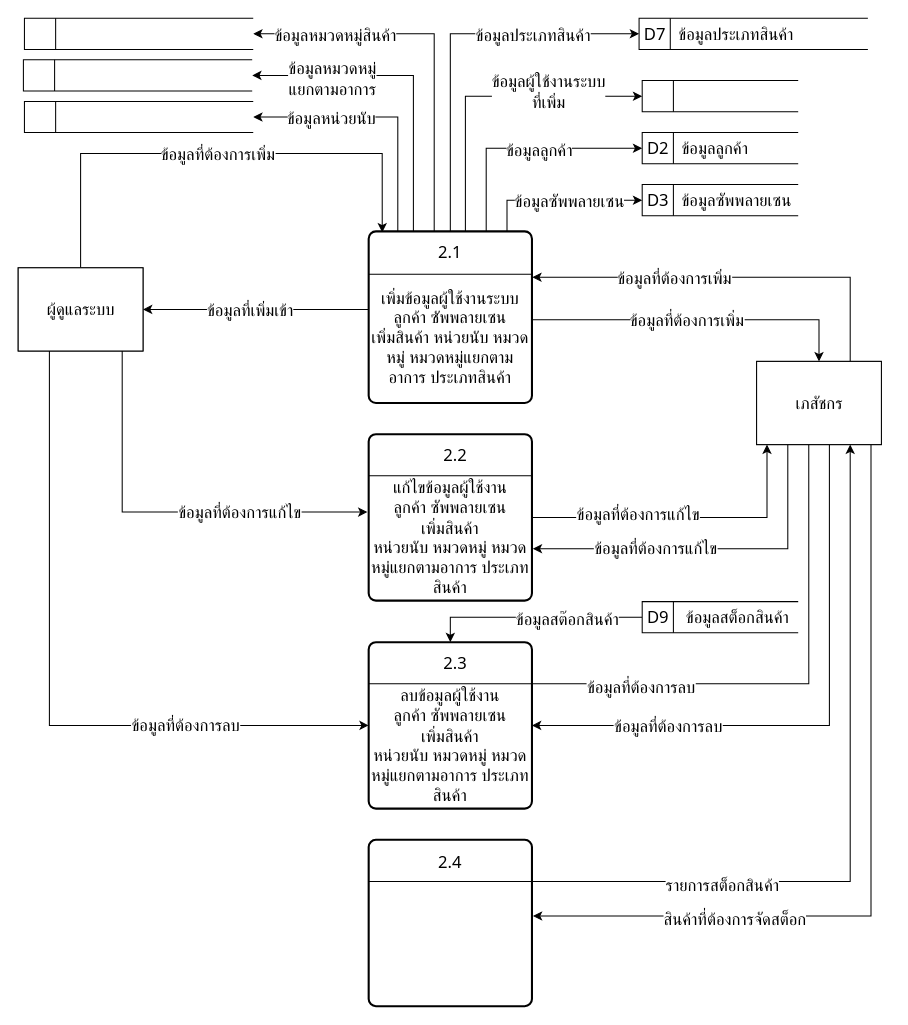
Image size: 908x1025. Some labels were removed from this diagram. The box of each missing label's shape, as (x1, y1, x2, y2) in pixels:
D1 ข้อมูลผู้ใช้งานระบบ: (641, 80, 798, 112)
D4 ข้อมูลหมวดหมู่สินค้า: (23, 17, 253, 49)
D5 ข้อมูลหมวดหมู่แยกตามอาการ: (22, 59, 252, 91)
D6 ข้อมูลหน่วยนับ: (23, 100, 253, 133)
ตัดสต็อกสินค้า: (367, 838, 532, 1007)
